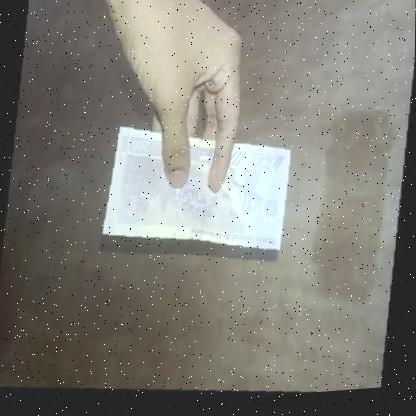vef_back: (101, 117, 293, 265)
